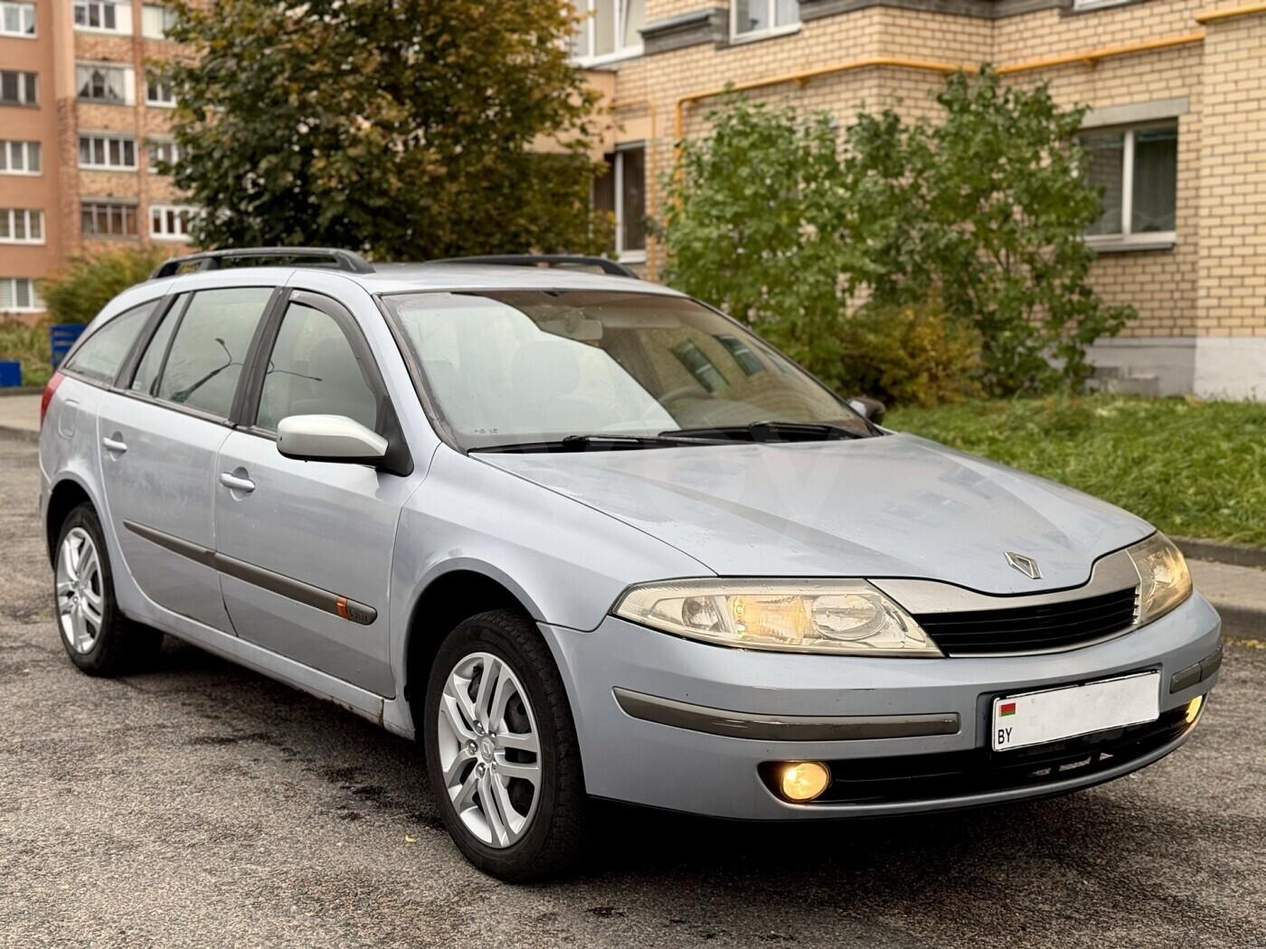Laguna_2001-2005: (39, 247, 1221, 880)
